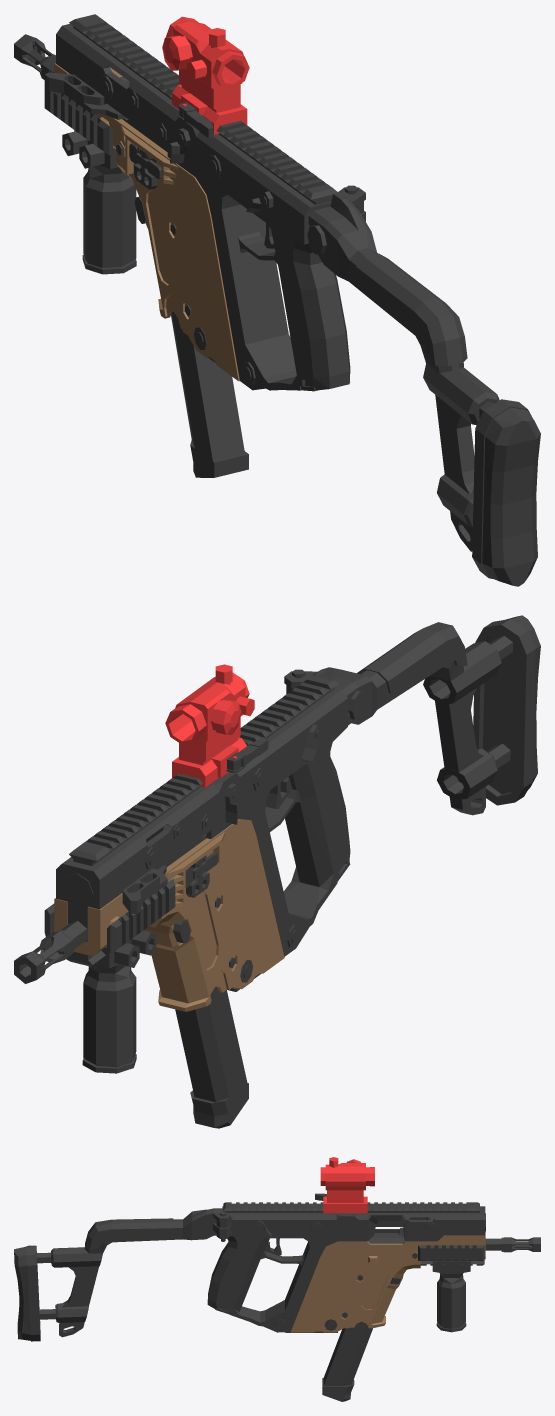
Rendered from subfusil_5.glb.
3 renders of one model, top to bottom at view 1: azimuth 30°, elevation 25°; view 2: azimuth 150°, elevation 25°; view 3: azimuth 270°, elevation 25°, orthographic. The views are drawn at different scales.
Visible parts, largest first — view 1: p3_paint, p2_accent, p132_paint, p125_paint, p56_paint, p15_paint, p123_paint, p127_paint, p126_paint, p7_paint, p72_del, p10_paint (+10 smaller); view 2: p3_paint, p2_accent, p132_paint, p15_paint, p56_paint, p125_paint, p123_paint, p127_paint, p126_paint, p0_paint, p7_paint, p128_paint (+13 smaller); view 3: p3_paint, p2_accent, p132_paint, p56_paint, p125_paint, p15_paint, p7_paint, p123_paint, p72_del, p127_paint, p126_paint, p5_paint (+9 smaller).
Boxes of the visible parts, x1=… form: p3_paint: x1=56, y1=24, x2=350, y2=390; p2_accent: x1=54, y1=63, x2=239, y2=381; p132_paint: x1=472, y1=399, x2=540, y2=586; p125_paint: x1=356, y1=253, x2=467, y2=366; p56_paint: x1=171, y1=311, x2=244, y2=463; p15_paint: x1=82, y1=165, x2=136, y2=274; p123_paint: x1=308, y1=193, x2=463, y2=373; p127_paint: x1=435, y1=395, x2=474, y2=494; p126_paint: x1=423, y1=363, x2=499, y2=425; p7_paint: x1=69, y1=14, x2=338, y2=204; p72_del: x1=173, y1=21, x2=243, y2=90; p10_paint: x1=44, y1=72, x2=125, y2=119; p3_paint: x1=56, y1=688, x2=350, y2=956; p2_accent: x1=54, y1=819, x2=284, y2=1011; p132_paint: x1=473, y1=615, x2=540, y2=805; p15_paint: x1=82, y1=964, x2=136, y2=1073; p56_paint: x1=175, y1=986, x2=247, y2=1102; p125_paint: x1=357, y1=622, x2=467, y2=693; p123_paint: x1=313, y1=660, x2=463, y2=725; p127_paint: x1=435, y1=688, x2=483, y2=772; p126_paint: x1=423, y1=641, x2=501, y2=704; p0_paint: x1=14, y1=921, x2=87, y2=983; p7_paint: x1=69, y1=675, x2=338, y2=865; p128_paint: x1=437, y1=748, x2=497, y2=799; p3_paint: x1=207, y1=1206, x2=485, y2=1332; p2_accent: x1=290, y1=1231, x2=485, y2=1332; p132_paint: x1=14, y1=1245, x2=40, y2=1341; p56_paint: x1=323, y1=1321, x2=372, y2=1386; p125_paint: x1=85, y1=1218, x2=173, y2=1250; p15_paint: x1=436, y1=1273, x2=466, y2=1332; p7_paint: x1=223, y1=1202, x2=479, y2=1212; p123_paint: x1=84, y1=1208, x2=222, y2=1253; p72_del: x1=325, y1=1163, x2=365, y2=1190; p127_paint: x1=62, y1=1266, x2=98, y2=1307; p126_paint: x1=51, y1=1247, x2=102, y2=1267; p5_paint: x1=418, y1=1245, x2=484, y2=1260.
Size of the model in its own units: 0.0601 by 0.3099 by 0.62.
